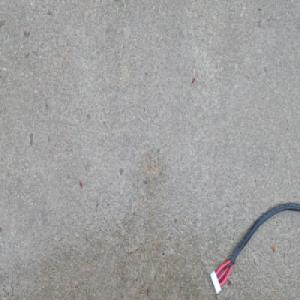Wire: (207, 200, 300, 295)
